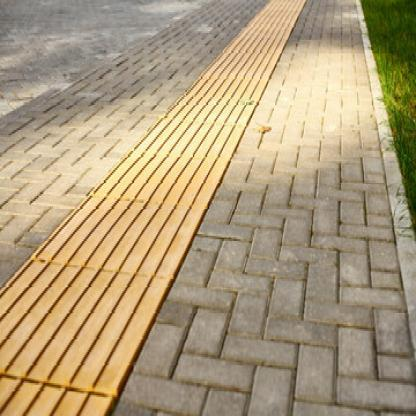podotacti: (0, 0, 334, 416)
